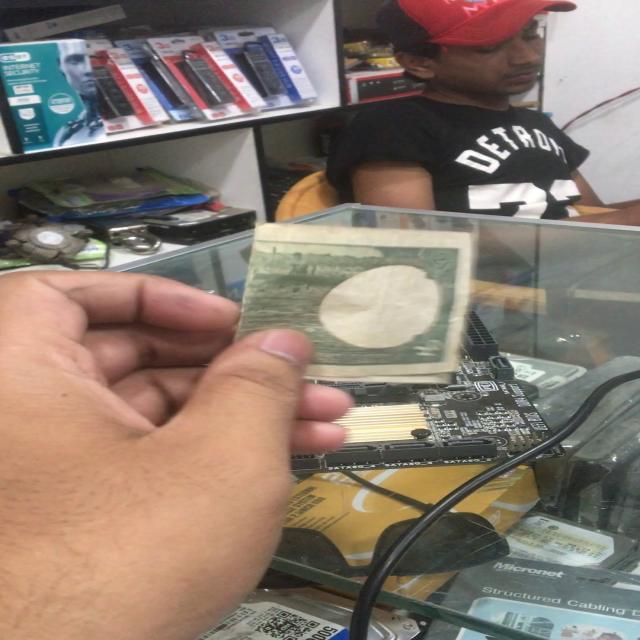Taka: (233, 220, 474, 382)
